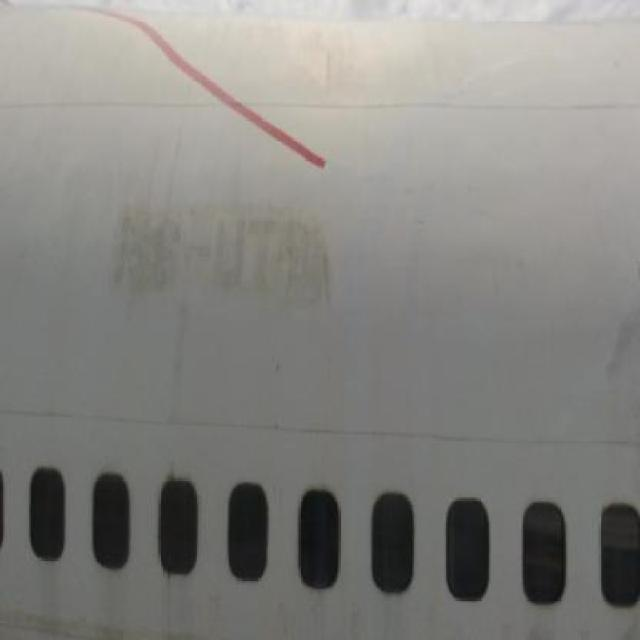Scartch: (98, 176, 344, 335)
